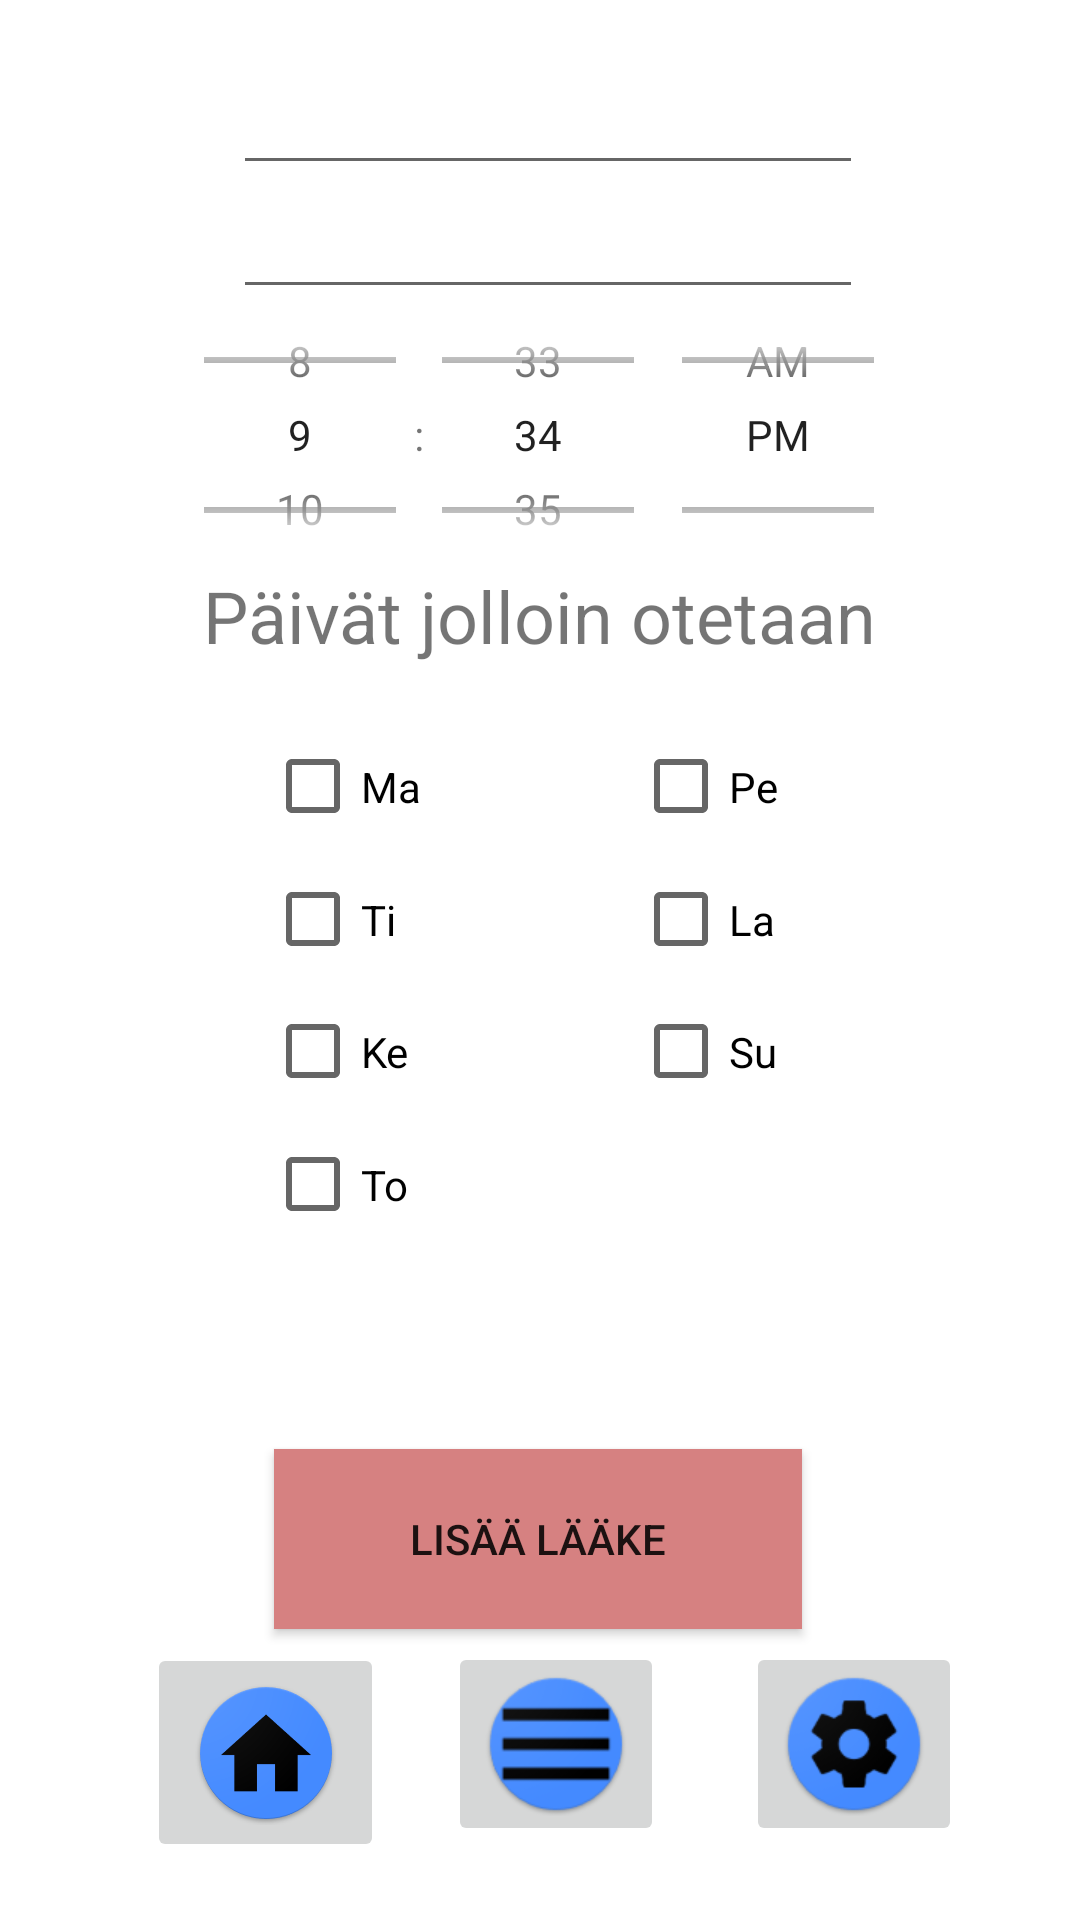

Named icons in this screenshot (1080px×1920px) and their centers, (x=x, y=y):
menu: (x=556, y=1744)
